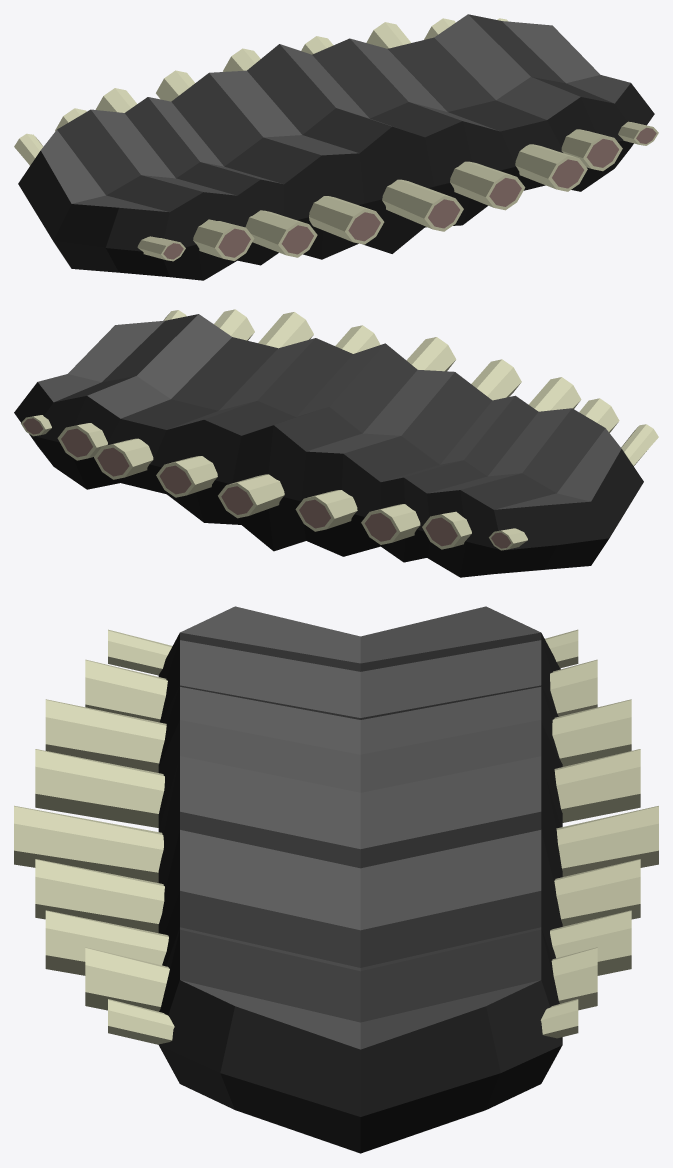
File: Burnt Ribs.fbx
3 renders of one model, top to bottom at view 1: azimuth 30°, elevation 25°; view 2: azimuth 150°, elevation 25°; view 3: azimuth 270°, elevation 25°, orthographic. The views are drawn at different scales.
Visible parts, largest first — view 1: Burnt Ribs; view 2: Burnt Ribs; view 3: Burnt Ribs.
Boxes of the visible parts, x1,y1,x2,y2 form: Burnt Ribs: (14, 14, 658, 280); Burnt Ribs: (14, 309, 658, 577); Burnt Ribs: (14, 606, 658, 1153).
Bounding box in the file's own units: 19.75 × 5.01 × 12.15.
